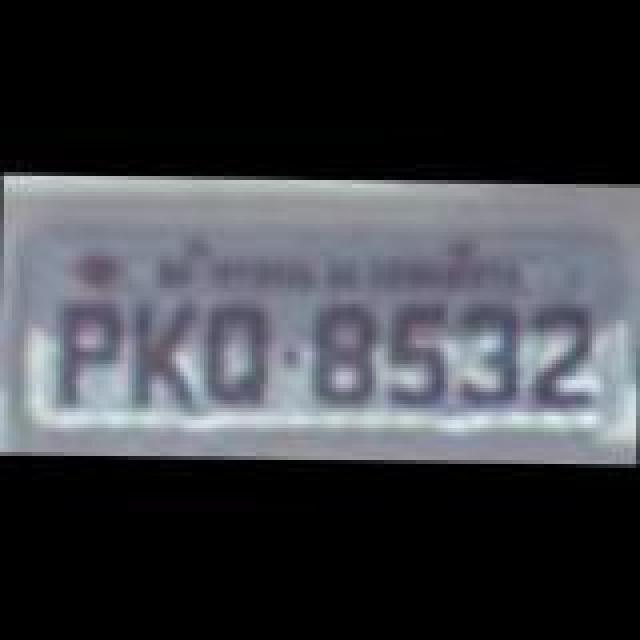2: (528, 306, 600, 414)
3: (452, 300, 524, 420)
5: (384, 304, 448, 416)
8: (310, 298, 378, 406)
K: (134, 292, 194, 412)
P: (56, 294, 120, 410)
Q: (202, 304, 278, 416)
